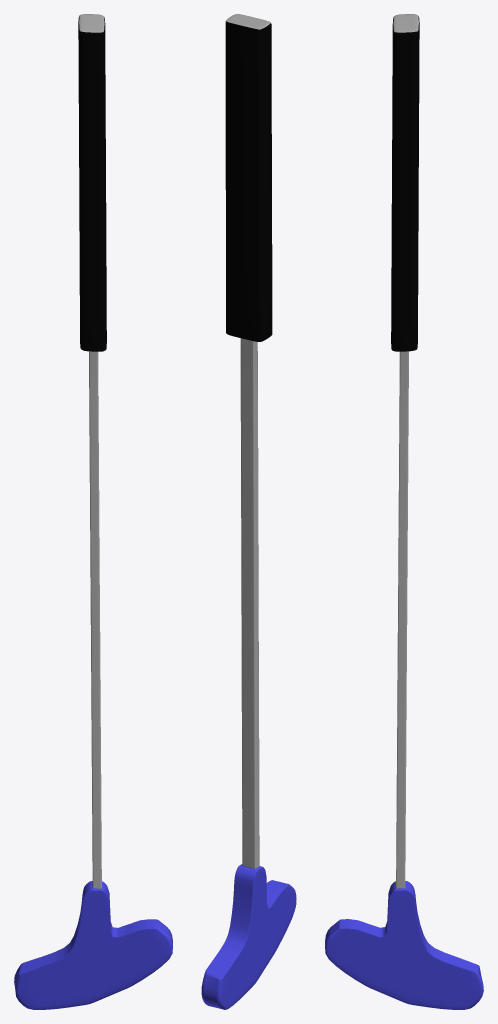
File: GolfClubBlue.fbx
3 views of the same model, side by side, from view 1: azimuth 90°, elevation 25°; view 2: azimuth 150°, elevation 25°; view 3: azimuth 270°, elevation 25° (orthographic).
Parts seen in each view (by area): view 1: pCube1; view 2: pCube1; view 3: pCube1.
Part boxes in pixels (x1,y1,x2,y2): pCube1: [14, 14, 172, 1009]; pCube1: [201, 14, 296, 1009]; pCube1: [325, 14, 483, 1009].
Bounding box in the file's own units: 2.17 × 51.65 × 7.56.
